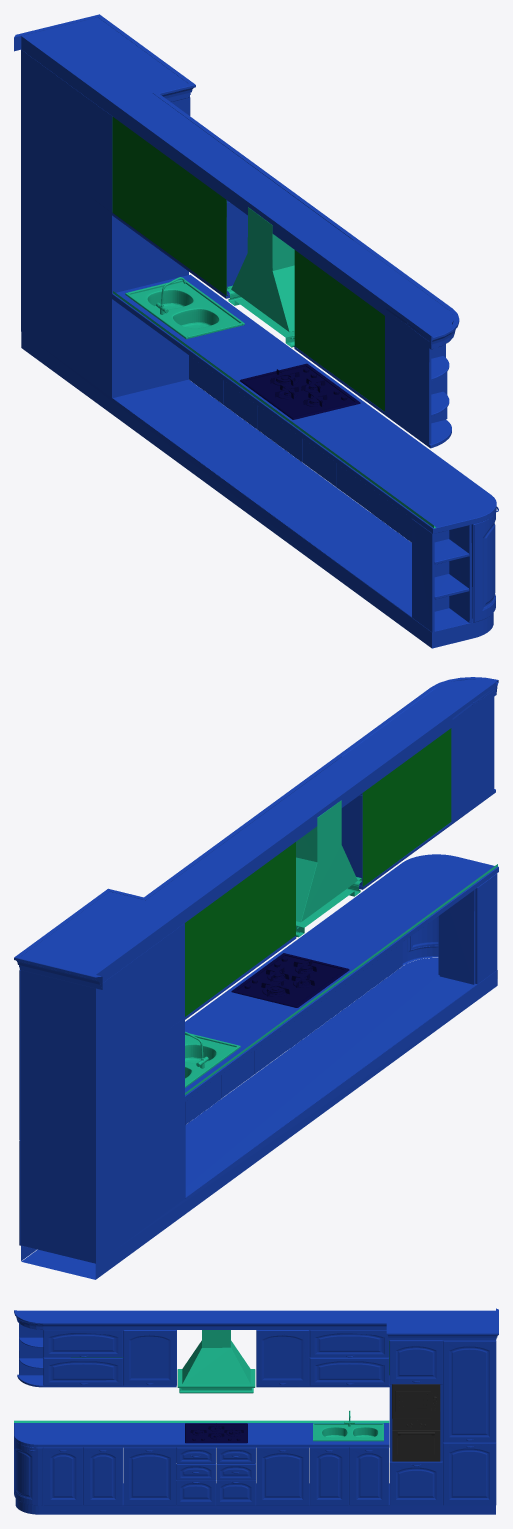
File: kitchen2.FBX
The picture shows the model from 3 angles, top to bottom: view 1: azimuth 30°, elevation 25°; view 2: azimuth 150°, elevation 25°; view 3: azimuth 270°, elevation 25°; orthographic projection. The views are drawn at different scales.
Parts seen in each view (by area): view 1: kitchen_13, kitchen_14, kitchen_01, Box3070, Box04, kitchen_11, detail_159, kitchen_58, Shape01, detail_20, kitchen_41, kitchen_12 (+9 smaller); view 2: kitchen_13, kitchen_14, kitchen_01, Box3070, Box04, detail_159, kitchen_11, kitchen_58, Shape01, kitchen_41, detail_20, kitchen_29 (+8 smaller); view 3: kitchen_13, kitchen_01, kitchen_15, kitchen_14, kitchen_41, detail_159, kitchen_25, kitchen_62, kitchen_22, kitchen_69, kitchen_40, kitchen_27 (+24 smaller).
Boxes of the visible parts, box(x1,y1,x2,y2) form: kitchen_13: box(21, 49, 496, 533); kitchen_14: box(21, 332, 493, 648); kitchen_01: box(21, 17, 454, 349); Box3070: box(112, 116, 228, 295); Box04: box(294, 250, 384, 411); kitchen_11: box(412, 519, 471, 632); detail_159: box(227, 207, 294, 347); kitchen_58: box(385, 309, 431, 443); Shape01: box(240, 363, 360, 419); detail_20: box(125, 279, 244, 339); kitchen_41: box(14, 14, 459, 349); kitchen_12: box(472, 512, 495, 622); kitchen_13: box(21, 854, 498, 1263); kitchen_14: box(21, 958, 497, 1279); kitchen_01: box(21, 679, 496, 982); Box3070: box(185, 842, 295, 1016); Box04: box(362, 728, 451, 886); detail_159: box(296, 800, 361, 937); kitchen_11: box(438, 873, 497, 984); kitchen_58: box(451, 690, 494, 821); Shape01: box(231, 953, 349, 1007); kitchen_41: box(14, 677, 498, 989); detail_20: box(185, 1033, 240, 1087); kitchen_29: box(341, 793, 362, 885); kitchen_13: box(14, 1340, 495, 1461); kitchen_01: box(17, 1310, 495, 1332); kitchen_15: box(443, 1340, 496, 1442); kitchen_14: box(15, 1483, 495, 1514); kitchen_41: box(14, 1308, 498, 1340); detail_159: box(177, 1330, 255, 1393); kitchen_25: box(443, 1442, 496, 1505); kitchen_62: box(123, 1447, 176, 1505); kitchen_22: box(256, 1447, 309, 1505); kitchen_69: box(123, 1330, 176, 1385); kitchen_40: box(256, 1330, 309, 1385); kitchen_27: box(389, 1340, 442, 1384).
Size of the model in its own units: 268 by 894 by 2153.
